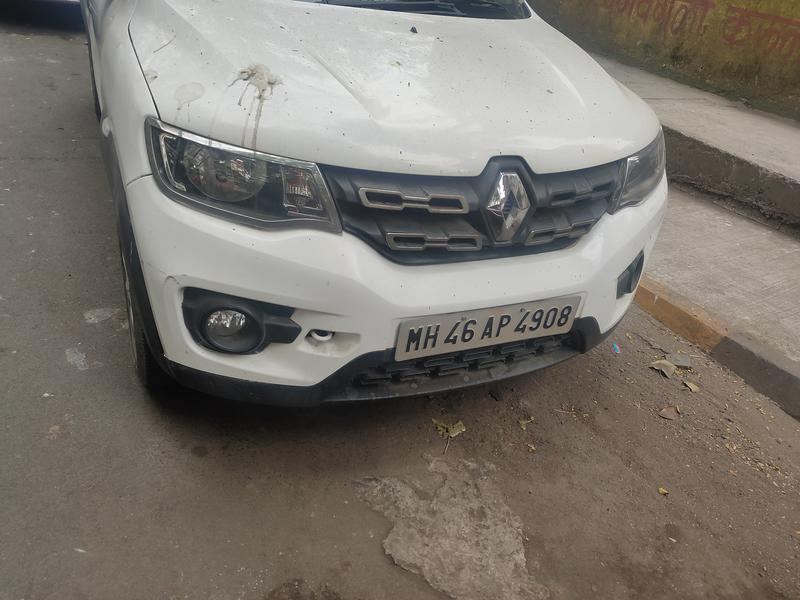license_plate: (390, 286, 582, 374)
